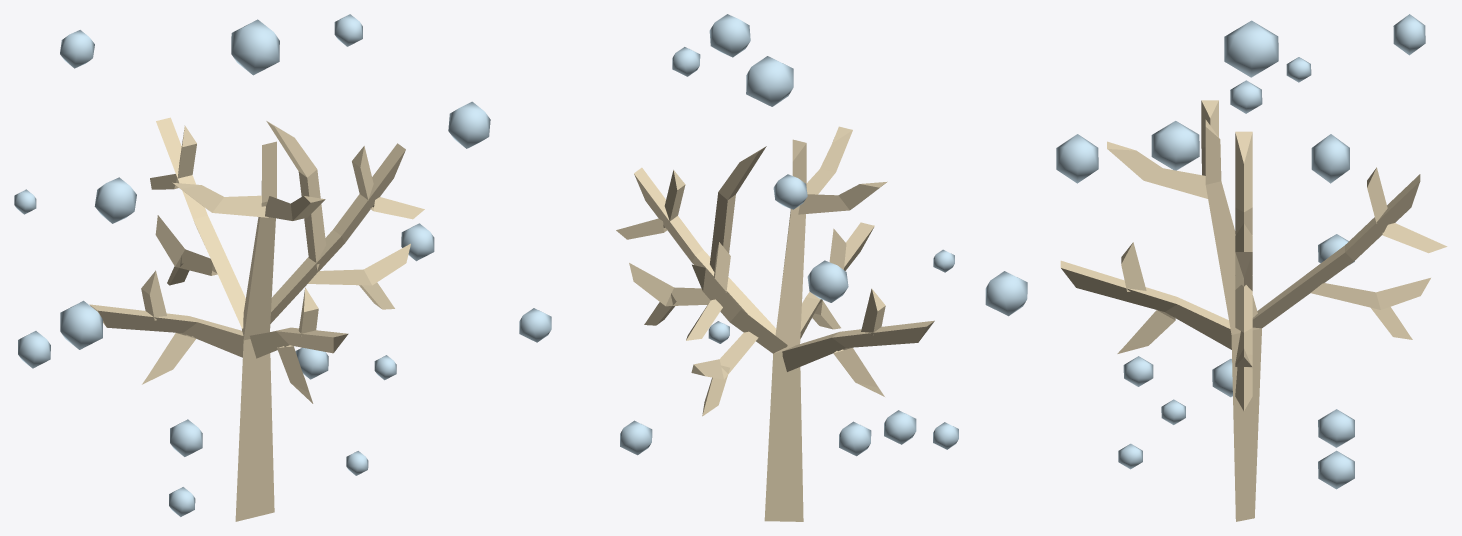
3 renders of one model, left to right at view 1: azimuth 30°, elevation 25°; view 2: azimuth 150°, elevation 25°; view 3: azimuth 270°, elevation 25°, orthographic. The views are drawn at different scales.
Parts seen in each view (by area): view 1: Gengon016, Sphere475, Sphere481, Sphere477, Sphere479, Sphere476, Sphere483, Sphere482, Sphere488, Sphere487, Sphere478, Sphere484; view 2: Gengon016, Sphere475, Sphere481, Sphere477, Sphere479, Sphere476, Sphere482, Sphere488, Sphere487, Sphere483, Sphere478; view 3: Gengon016, Sphere475, Sphere481, Sphere477, Sphere479, Sphere488, Sphere487, Sphere476, Sphere478, Sphere484, Sphere483, Sphere482 (+3 smaller).
Part boxes in pixels (bbox=[...]): Gengon016: bbox=[89, 117, 424, 521]; Sphere475: bbox=[231, 19, 279, 75]; Sphere481: bbox=[60, 300, 102, 349]; Sphere477: bbox=[448, 101, 490, 148]; Sphere479: bbox=[94, 177, 136, 223]; Sphere476: bbox=[60, 30, 94, 68]; Sphere483: bbox=[170, 419, 202, 456]; Sphere482: bbox=[18, 331, 50, 368]; Sphere488: bbox=[401, 223, 434, 261]; Sphere487: bbox=[295, 347, 328, 379]; Sphere478: bbox=[334, 14, 362, 46]; Sphere484: bbox=[169, 487, 195, 516]; Gengon016: bbox=[616, 126, 934, 521]; Sphere475: bbox=[746, 56, 793, 106]; Sphere481: bbox=[985, 271, 1027, 316]; Sphere477: bbox=[709, 14, 750, 57]; Sphere479: bbox=[807, 260, 848, 302]; Sphere476: bbox=[773, 174, 807, 209]; Sphere482: bbox=[884, 410, 916, 444]; Sphere488: bbox=[519, 308, 551, 342]; Sphere487: bbox=[620, 420, 652, 455]; Sphere483: bbox=[839, 421, 871, 456]; Sphere478: bbox=[672, 47, 700, 76]; Gengon016: bbox=[1060, 100, 1447, 521]; Sphere475: bbox=[1224, 20, 1278, 77]; Sphere481: bbox=[1151, 121, 1199, 170]; Sphere477: bbox=[1056, 134, 1098, 183]; Sphere479: bbox=[1311, 134, 1349, 183]; Sphere488: bbox=[1318, 409, 1354, 447]; Sphere487: bbox=[1318, 450, 1354, 489]; Sphere476: bbox=[1393, 14, 1425, 55]; Sphere478: bbox=[1230, 80, 1262, 113]; Sphere484: bbox=[1123, 356, 1153, 386]; Sphere483: bbox=[1212, 359, 1232, 397]; Sphere482: bbox=[1318, 234, 1354, 264].
Size of the model in its own units: 9.51 by 9.7 by 7.02.
